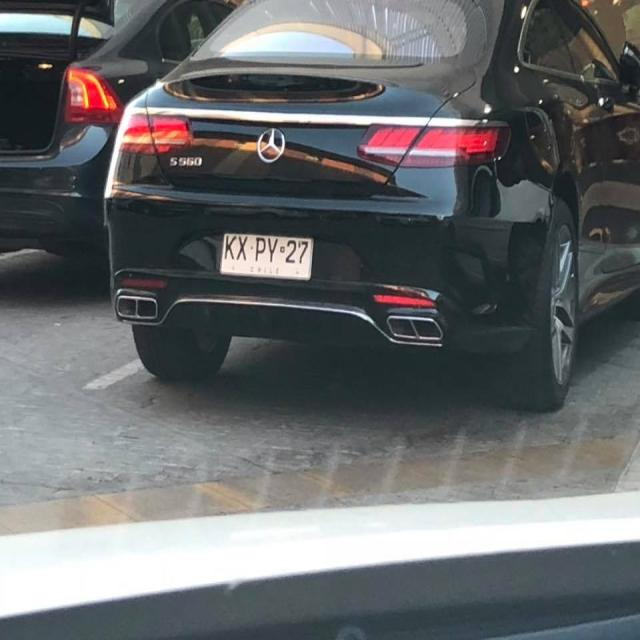patente: (219, 231, 313, 281)
